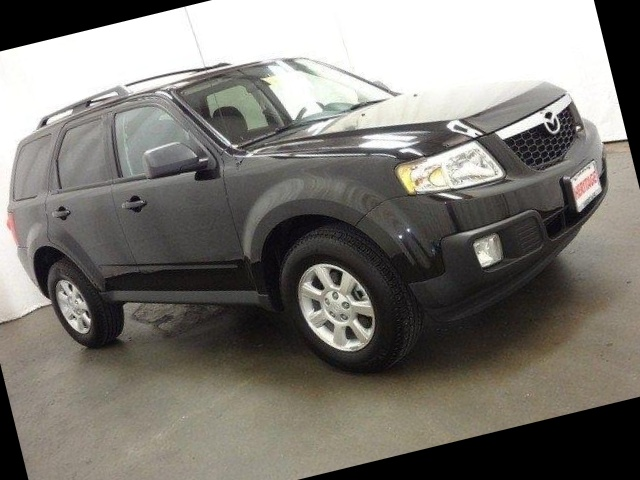car: (0, 0, 640, 468)
